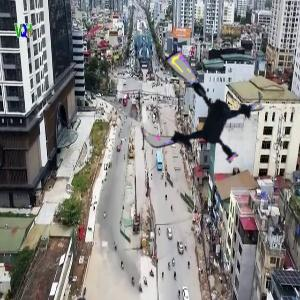drone: (138, 50, 261, 173)
